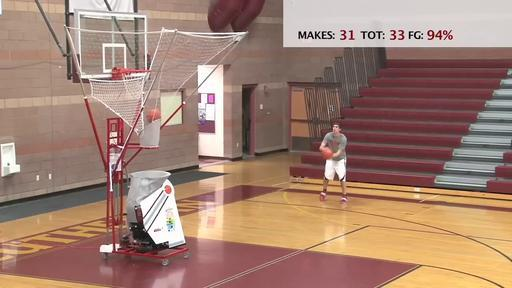ball: (322, 148, 334, 160)
human: (320, 122, 348, 202)
rim: (120, 70, 150, 96)
